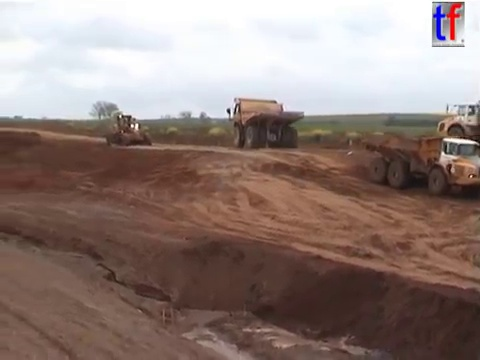motor grader: (104, 113, 155, 149)
truck: (358, 130, 480, 198), (224, 95, 308, 151), (434, 98, 480, 150)
